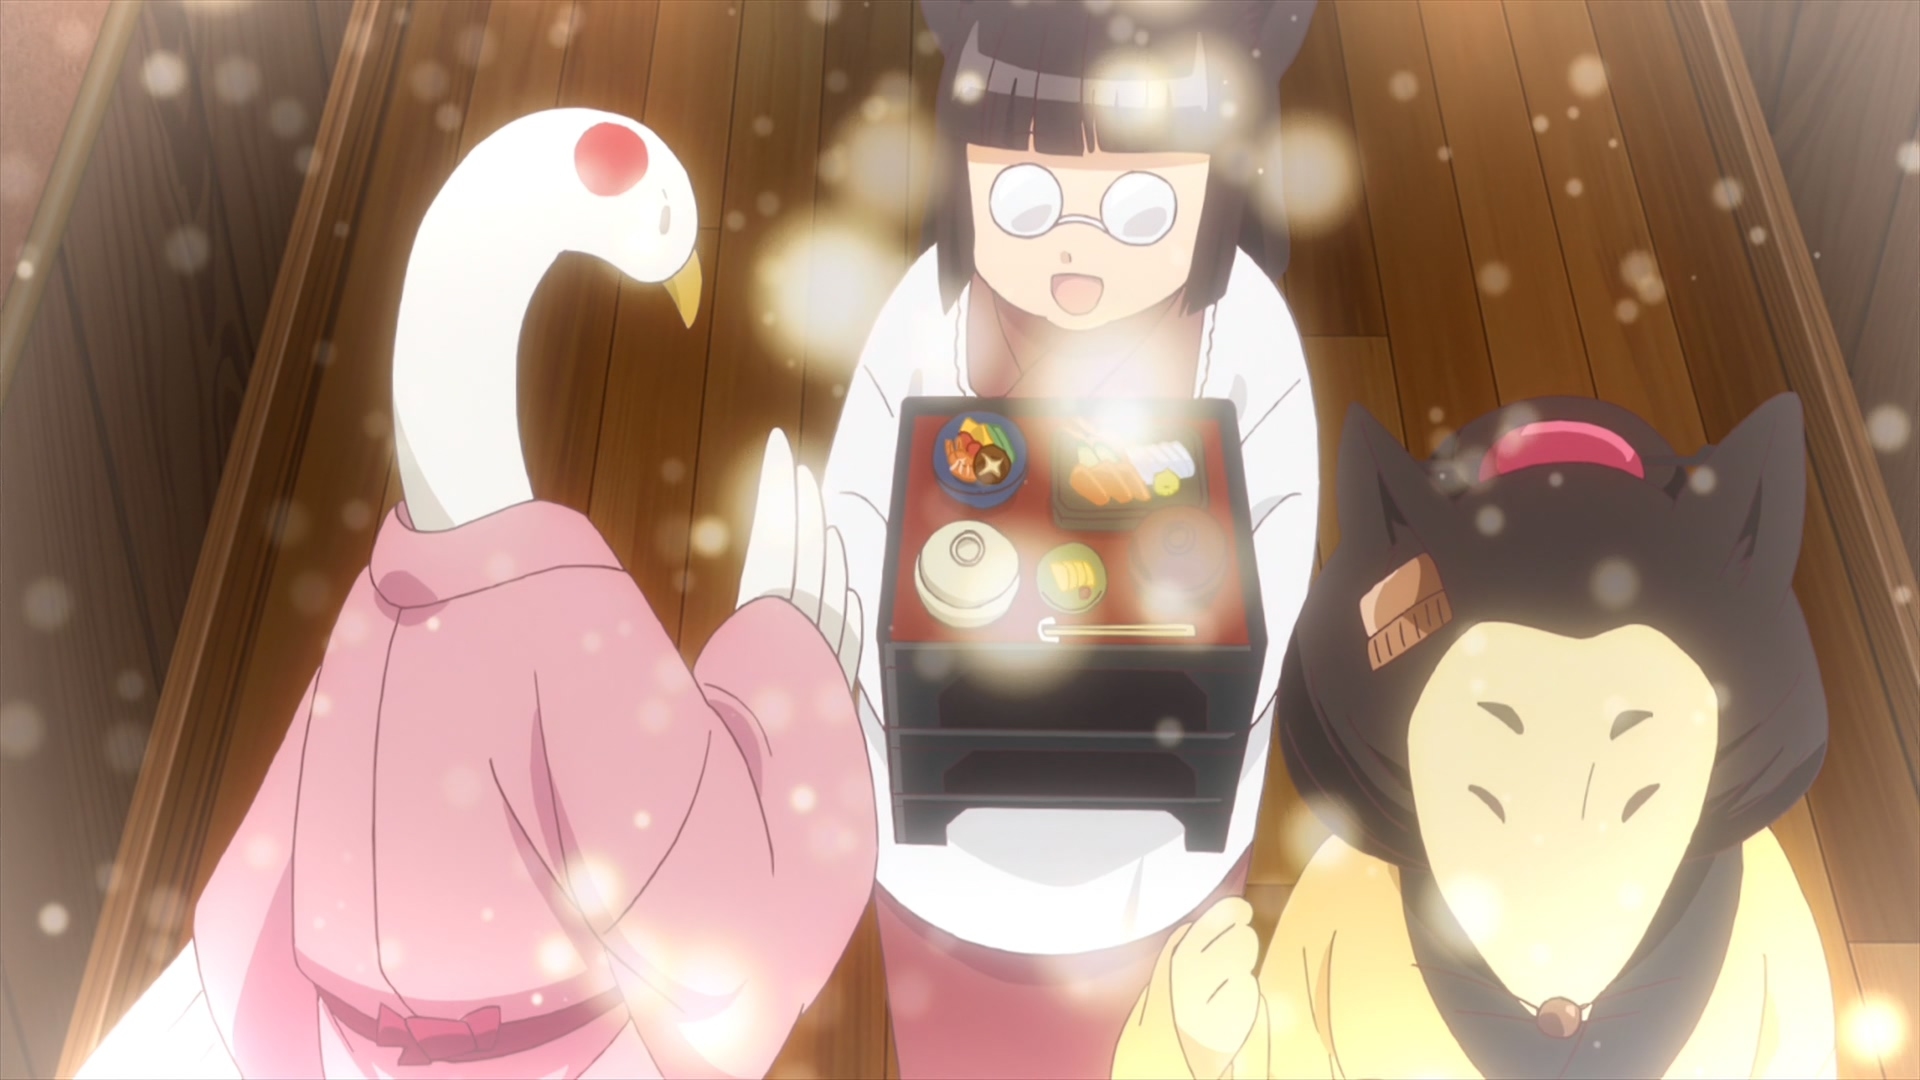其他: (70, 105, 880, 1080), (822, 1, 1319, 1080), (1113, 394, 1840, 1080)
